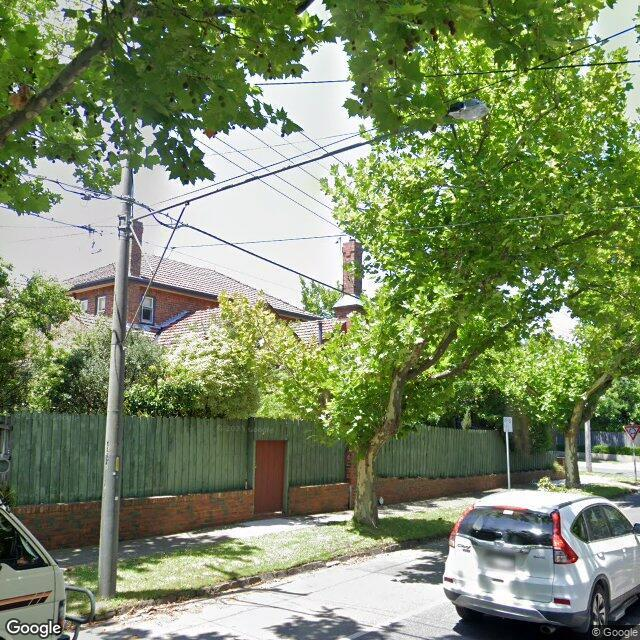concrete-pole: (98, 148, 134, 600)
streetlight: (125, 98, 490, 231)
